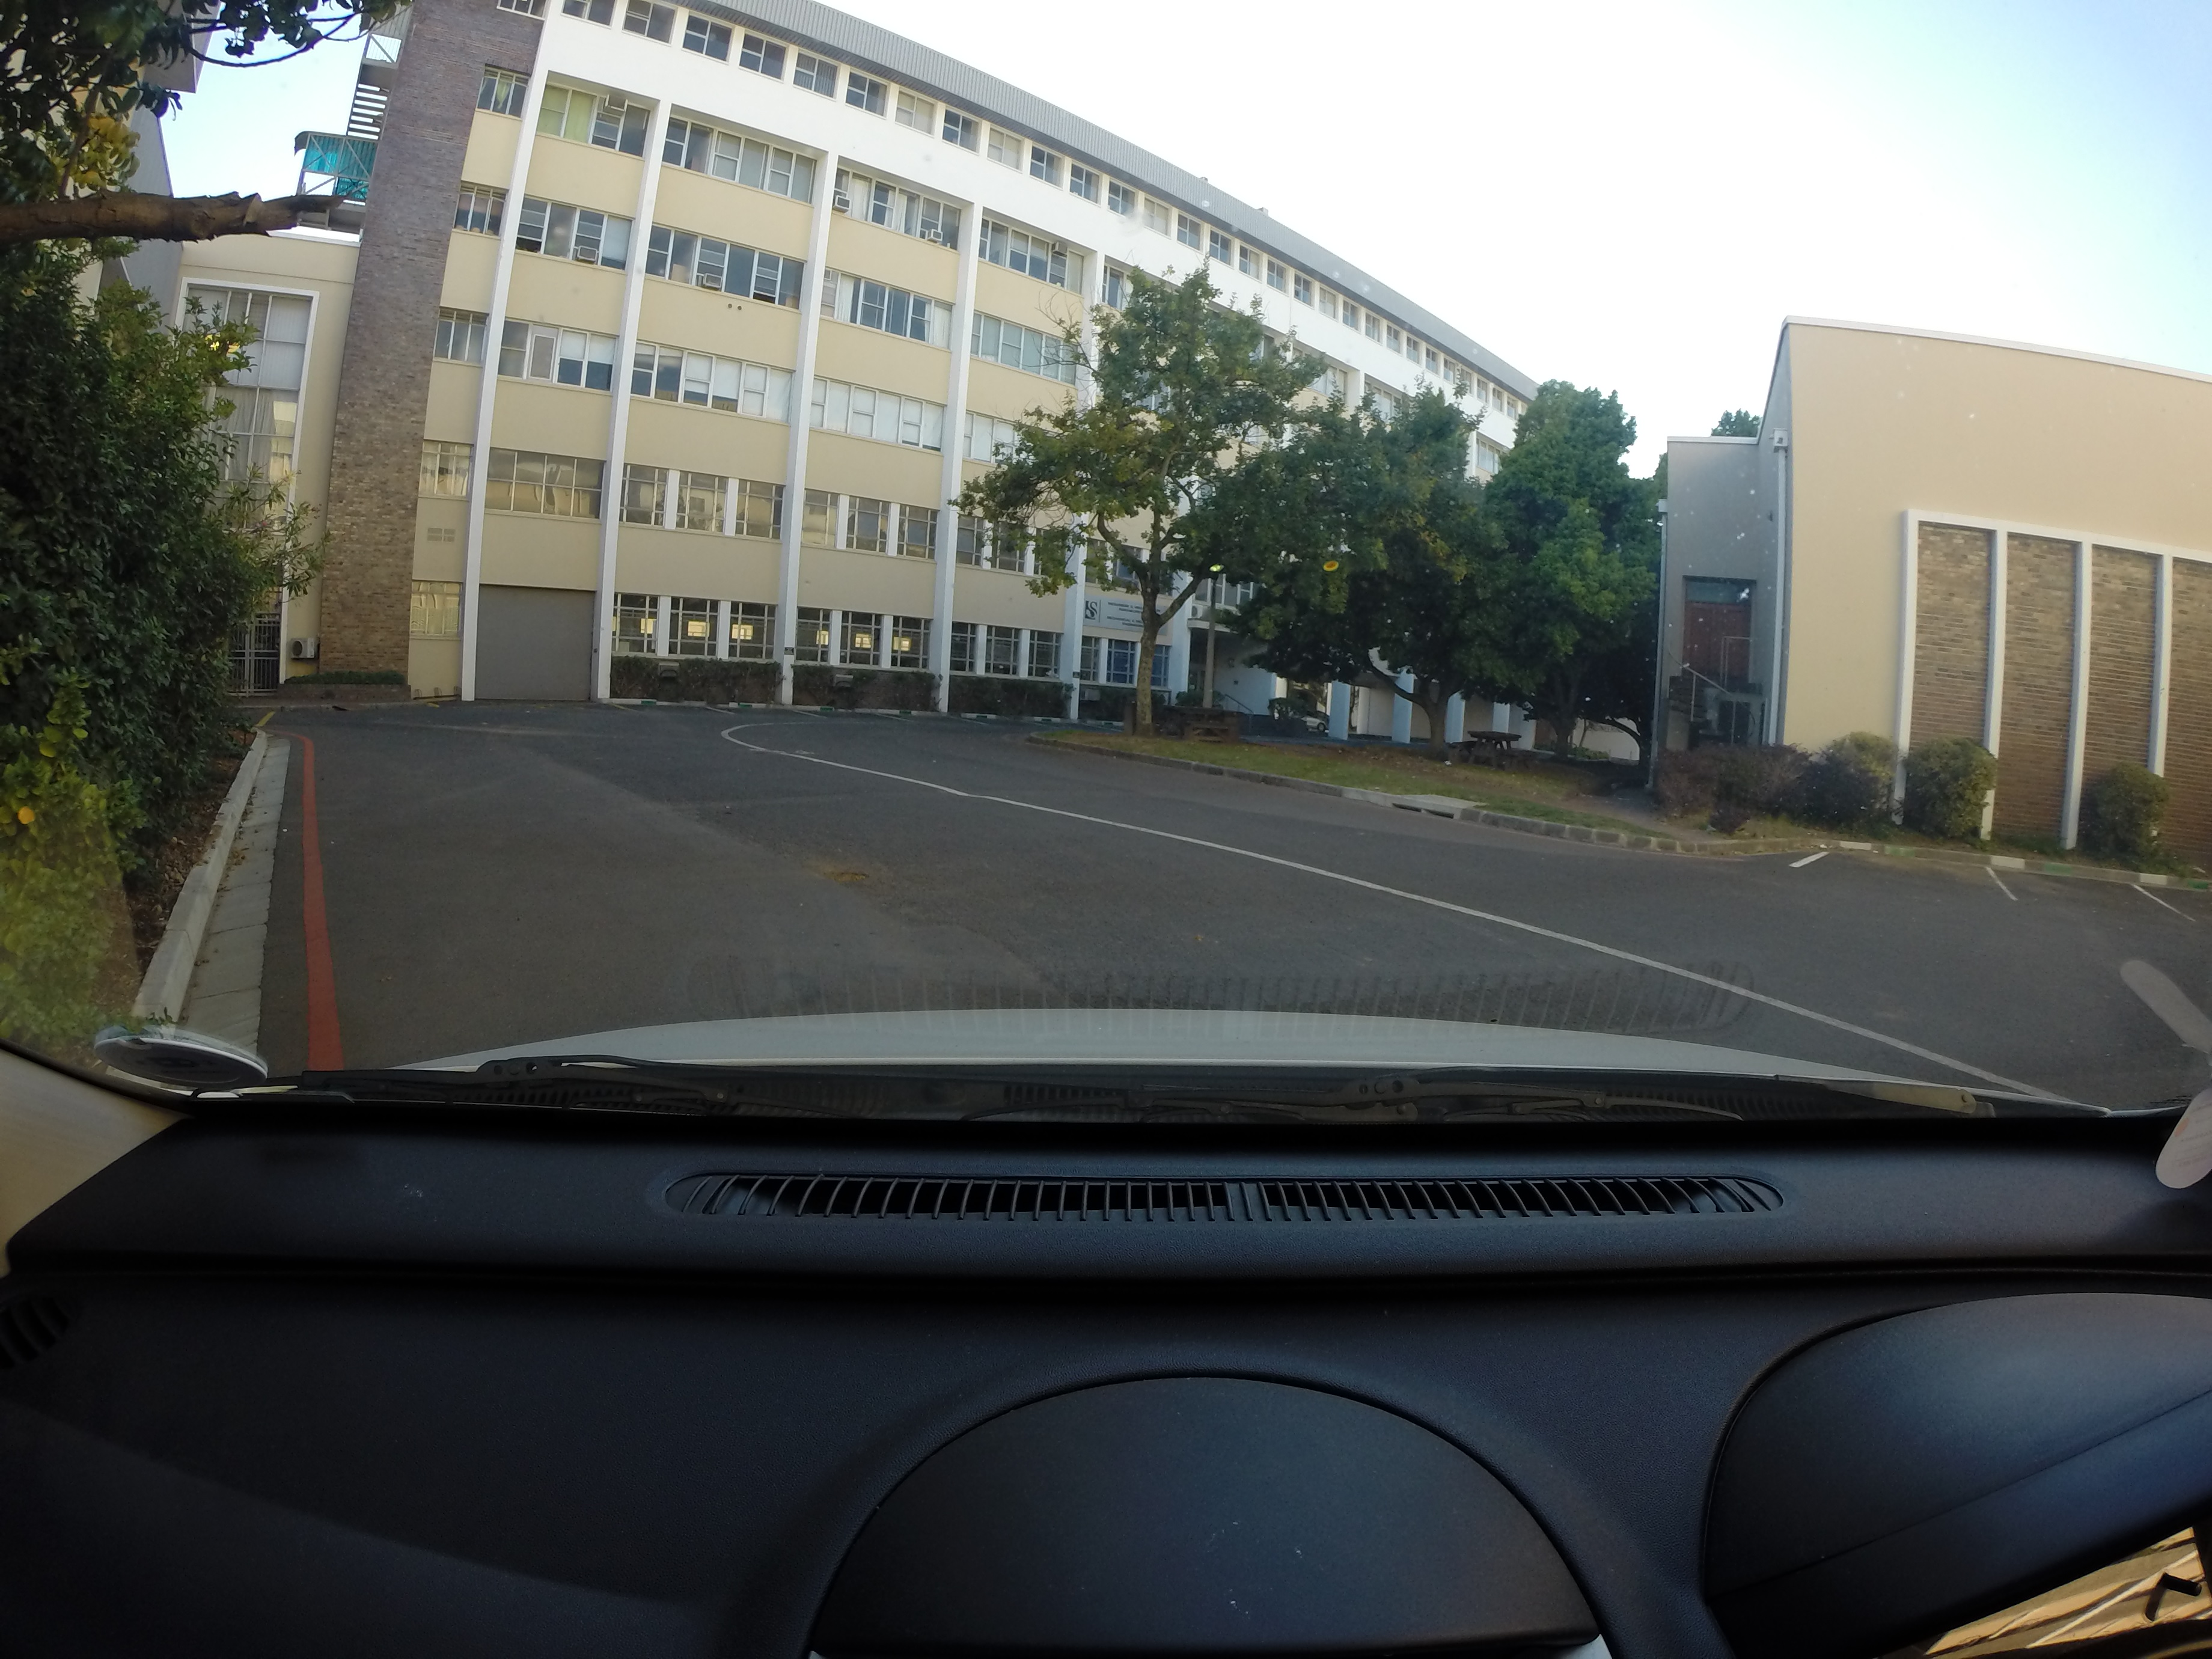pothole: (810, 863, 897, 892)
